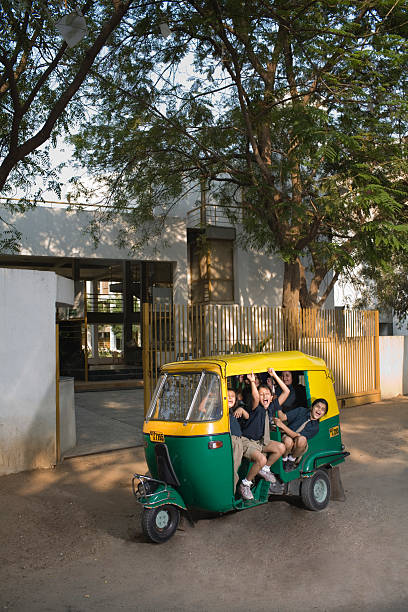threewheel: (134, 351, 346, 544)
